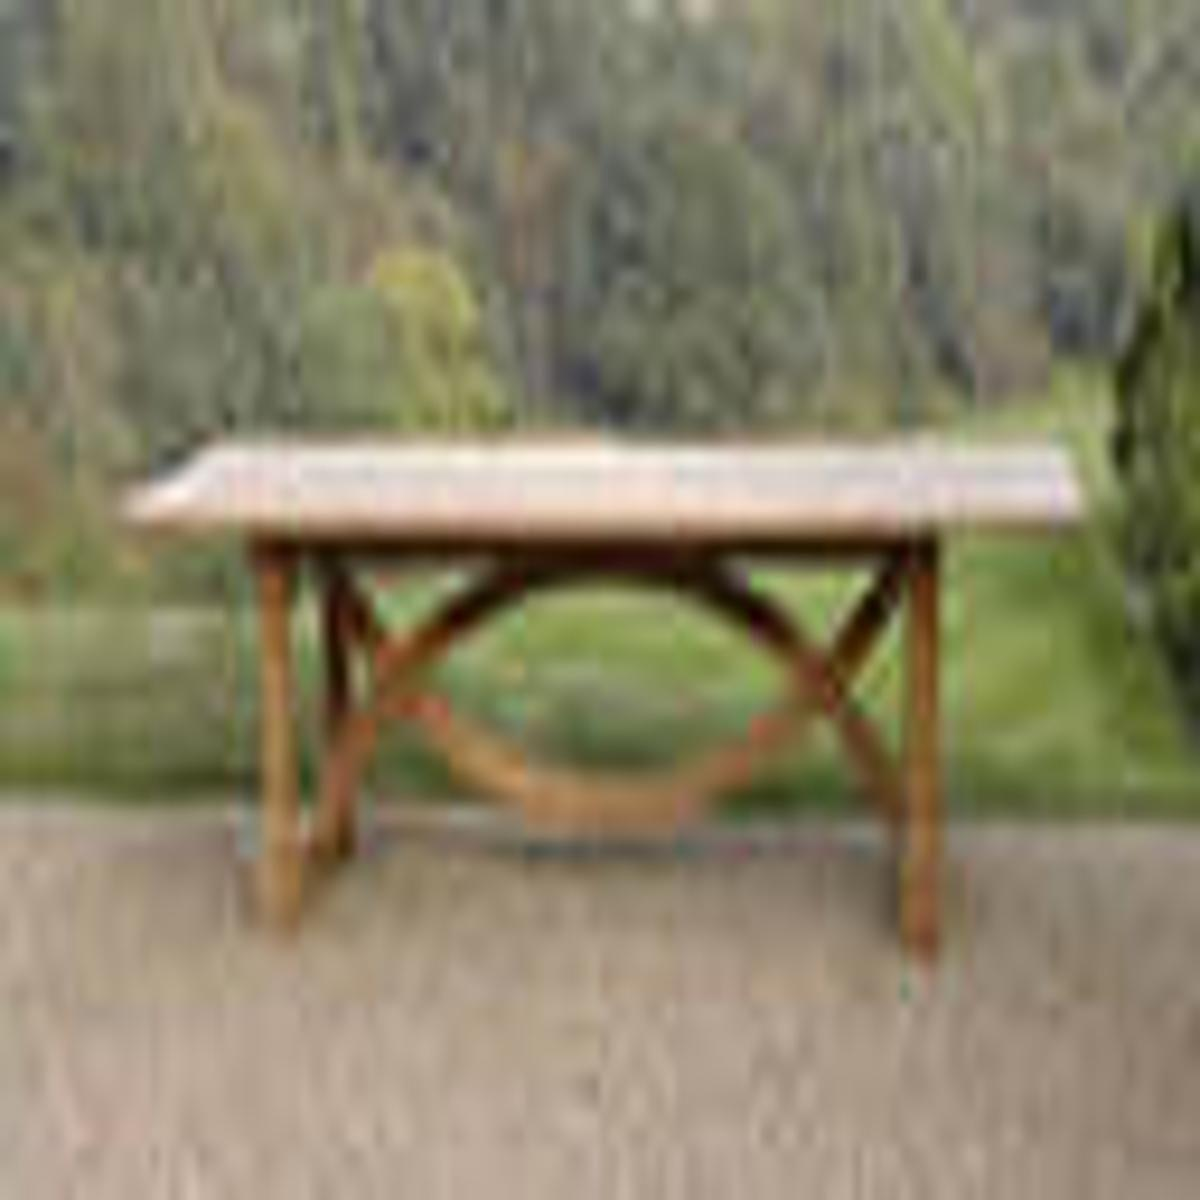Table: (98, 402, 1100, 986)
